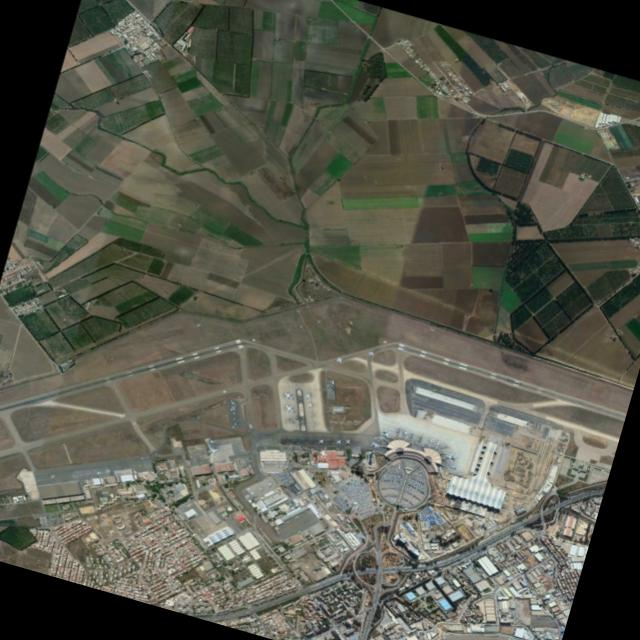plane: (281, 400, 295, 413), (280, 388, 293, 401), (444, 450, 456, 462), (380, 427, 390, 437)
